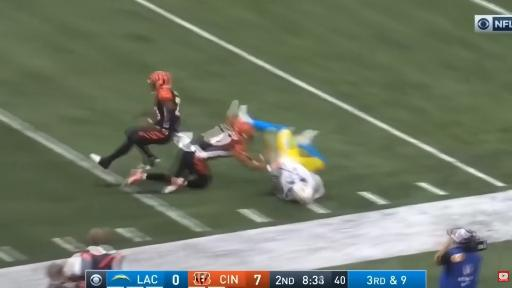Helmet: (148, 71, 171, 89), (293, 183, 312, 203), (233, 120, 254, 137)
Jersey: (271, 159, 314, 200), (197, 124, 242, 159), (155, 89, 180, 132)
Player: (126, 101, 266, 193), (90, 71, 179, 168), (239, 106, 324, 171), (265, 130, 325, 204)
